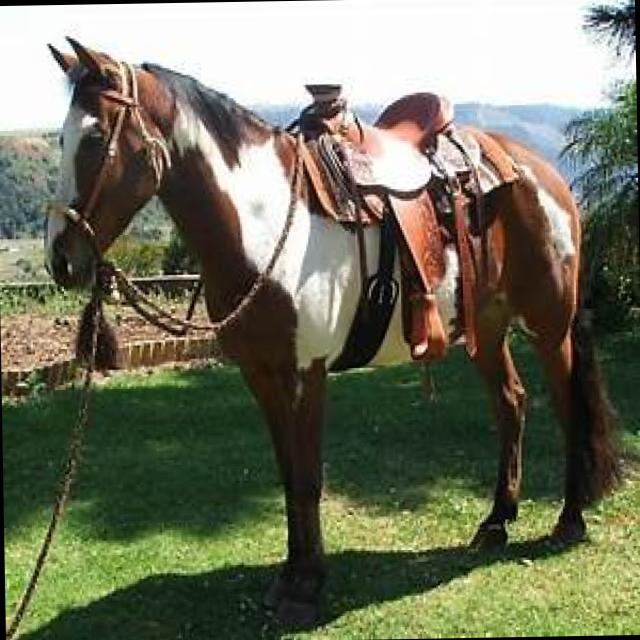animal: (37, 24, 628, 633)
